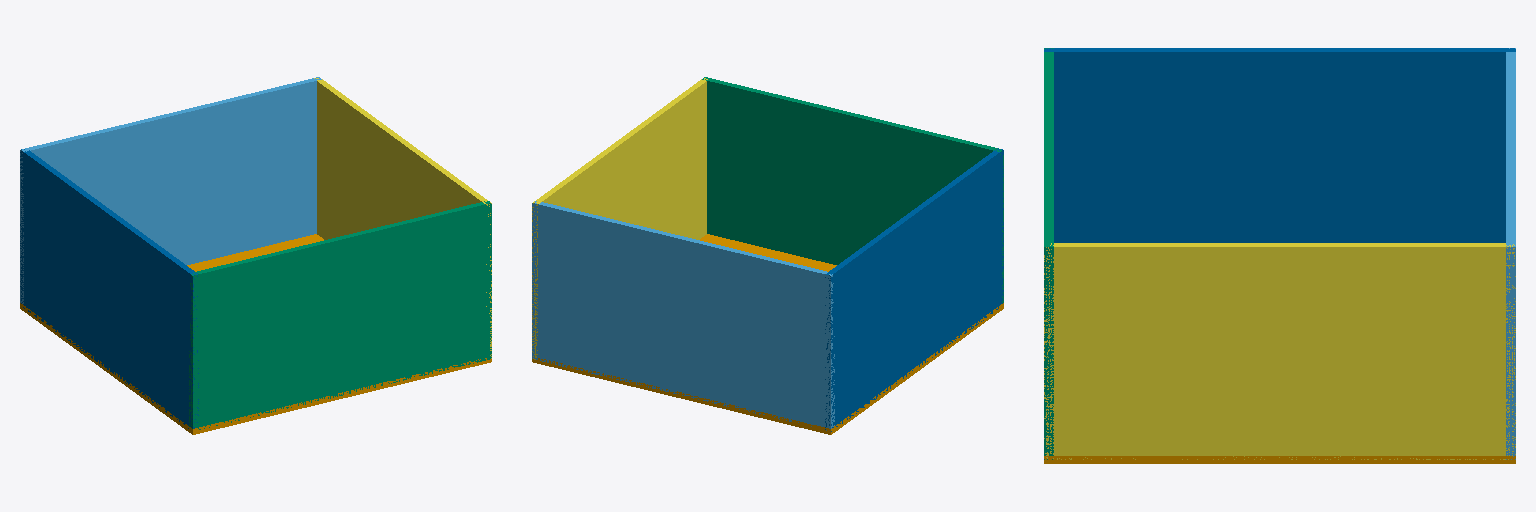
robot.urdf — open_top_box:
<?xml version="1.0"?>
<robot name="open_top_box">
  <!-- 底板 -->
  <link name="base_plate">
    <visual>
      <geometry>
        <box size="1.0 1.0 0.02"/>
      </geometry>
      <origin xyz="0 0 0" rpy="0 0 0"/>
    </visual>
    <collision>
      <geometry>
        <box size="1.0 1.0 0.02"/>
      </geometry>
      <origin xyz="0 0 0" rpy="0 0 0"/>
    </collision>
  </link>

  <!-- 四个侧板 -->
  <!-- 前板 -->
  <link name="wall_front">
    <visual>
      <geometry>
        <box size="1.0 0.02 0.5"/>
      </geometry>
      <origin xyz="0 0.49 0.25" rpy="0 0 0"/>
    </visual>
    <collision>
      <geometry>
        <box size="1.0 0.02 0.5"/>
      </geometry>
      <origin xyz="0 0.49 0.25" rpy="0 0 0"/>
    </collision>
  </link>
  <joint name="base_to_front" type="fixed">
    <parent link="base_plate"/>
    <child  link="wall_front"/>
    <origin xyz="0 0 0  " rpy="0 0 0"/>
  </joint>

  <!-- 后板 -->
  <link name="wall_back">
    <visual>
      <geometry>
        <box size="1.0 0.02 0.5"/>
      </geometry>
      <origin xyz="0 -0.49 0.25" rpy="0 0 0"/>
    </visual>
    <collision>
      <geometry>
        <box size="1.0 0.02 0.5"/>
      </geometry>
      <origin xyz="0 -0.49 0.25" rpy="0 0 0"/>
    </collision>
  </link>
  <joint name="base_to_back" type="fixed">
    <parent link="base_plate"/>
    <child  link="wall_back"/>
    <origin xyz="0 0 0" rpy="0 0 0"/>
  </joint>

  <!-- 左侧板 -->
  <link name="wall_left">
    <visual>
      <geometry>
        <box size="0.02 1.0 0.5"/>
      </geometry>
      <origin xyz="0.49 0 0.25" rpy="0 0 0"/>
    </visual>
    <collision>
      <geometry>
        <box size="0.02 1.0 0.5"/>
      </geometry>
      <origin xyz="0.49 0 0.25" rpy="0 0 0"/>
    </collision>
  </link>
  <joint name="base_to_left" type="fixed">
    <parent link="base_plate"/>
    <child  link="wall_left"/>
    <origin xyz="0 0 0" rpy="0 0 0"/>
  </joint>

  <!-- 右侧板 -->
  <link name="wall_right">
    <visual>
      <geometry>
        <box size="0.02 1.0 0.5"/>
      </geometry>
      <origin xyz="-0.49 0 0.25" rpy="0 0 0"/>
    </visual>
    <collision>
      <geometry>
        <box size="0.02 1.0 0.5"/>
      </geometry>
      <origin xyz="-0.49 0 0.25" rpy="0 0 0"/>
    </collision>
  </link>
  <joint name="base_to_right" type="fixed">
    <parent link="base_plate"/>
    <child  link="wall_right"/>
    <origin xyz="0 0 0" rpy="0 0 0"/>
  </joint>
</robot>

--- Facts derived from the render (not from the file) ---
The picture shows the robot from 3 angles, left to right: view 1: azimuth 30°, elevation 25°; view 2: azimuth 150°, elevation 25°; view 3: azimuth 270°, elevation 25°; orthographic projection.
Robot: open_top_box — 5 links, 4 joints (4 fixed); root link base_plate; default pose: every joint at zero.
Visible links, largest first — view 1: wall_back, wall_front, wall_right, wall_left, base_plate; view 2: wall_front, wall_back, wall_right, wall_left, base_plate; view 3: wall_left, wall_right, base_plate, wall_front, wall_back.
Link boxes in pixels (x1,y1,x2,y2): wall_back: (189,201,491,429); wall_front: (20,77,321,303); wall_right: (20,149,198,428); wall_left: (314,78,491,358); base_plate: (20,234,491,434); wall_front: (532,201,834,430); wall_back: (702,77,1003,302); wall_right: (825,148,1003,431); wall_left: (532,78,707,359); base_plate: (532,234,1003,434); wall_left: (1044,243,1515,459); wall_right: (1044,48,1515,242); base_plate: (1044,456,1515,463); wall_front: (1506,48,1515,459); wall_back: (1044,48,1053,459).
Size in the robot's own frame: 1 by 1 by 0.51 metres.
Geometry: primitives only (box / cylinder / sphere), no mesh files.
